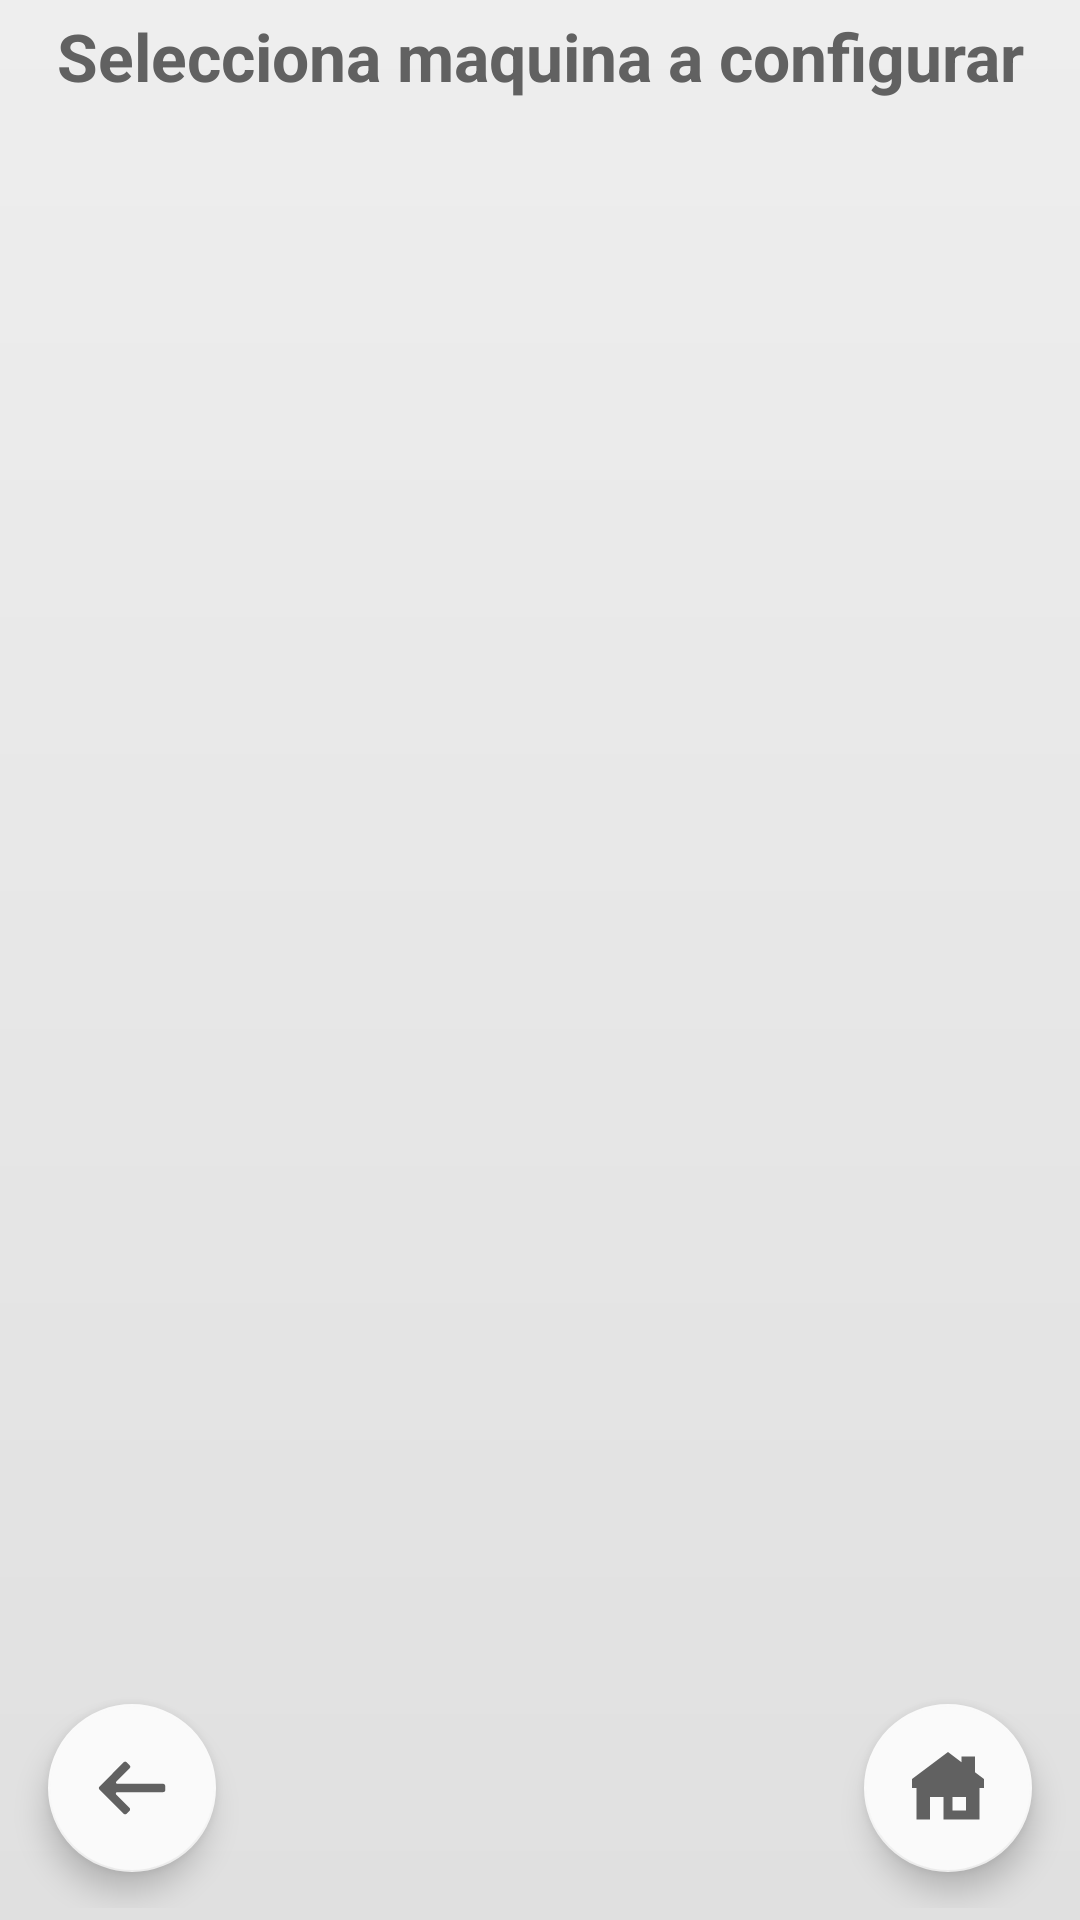

Screen size 1080×1920. Icon name, then its box in pixels as (x1, y1, x2, y2):
Fab nav atrás: (48, 1704, 215, 1872)
Fab nav home: (864, 1704, 1031, 1870)
